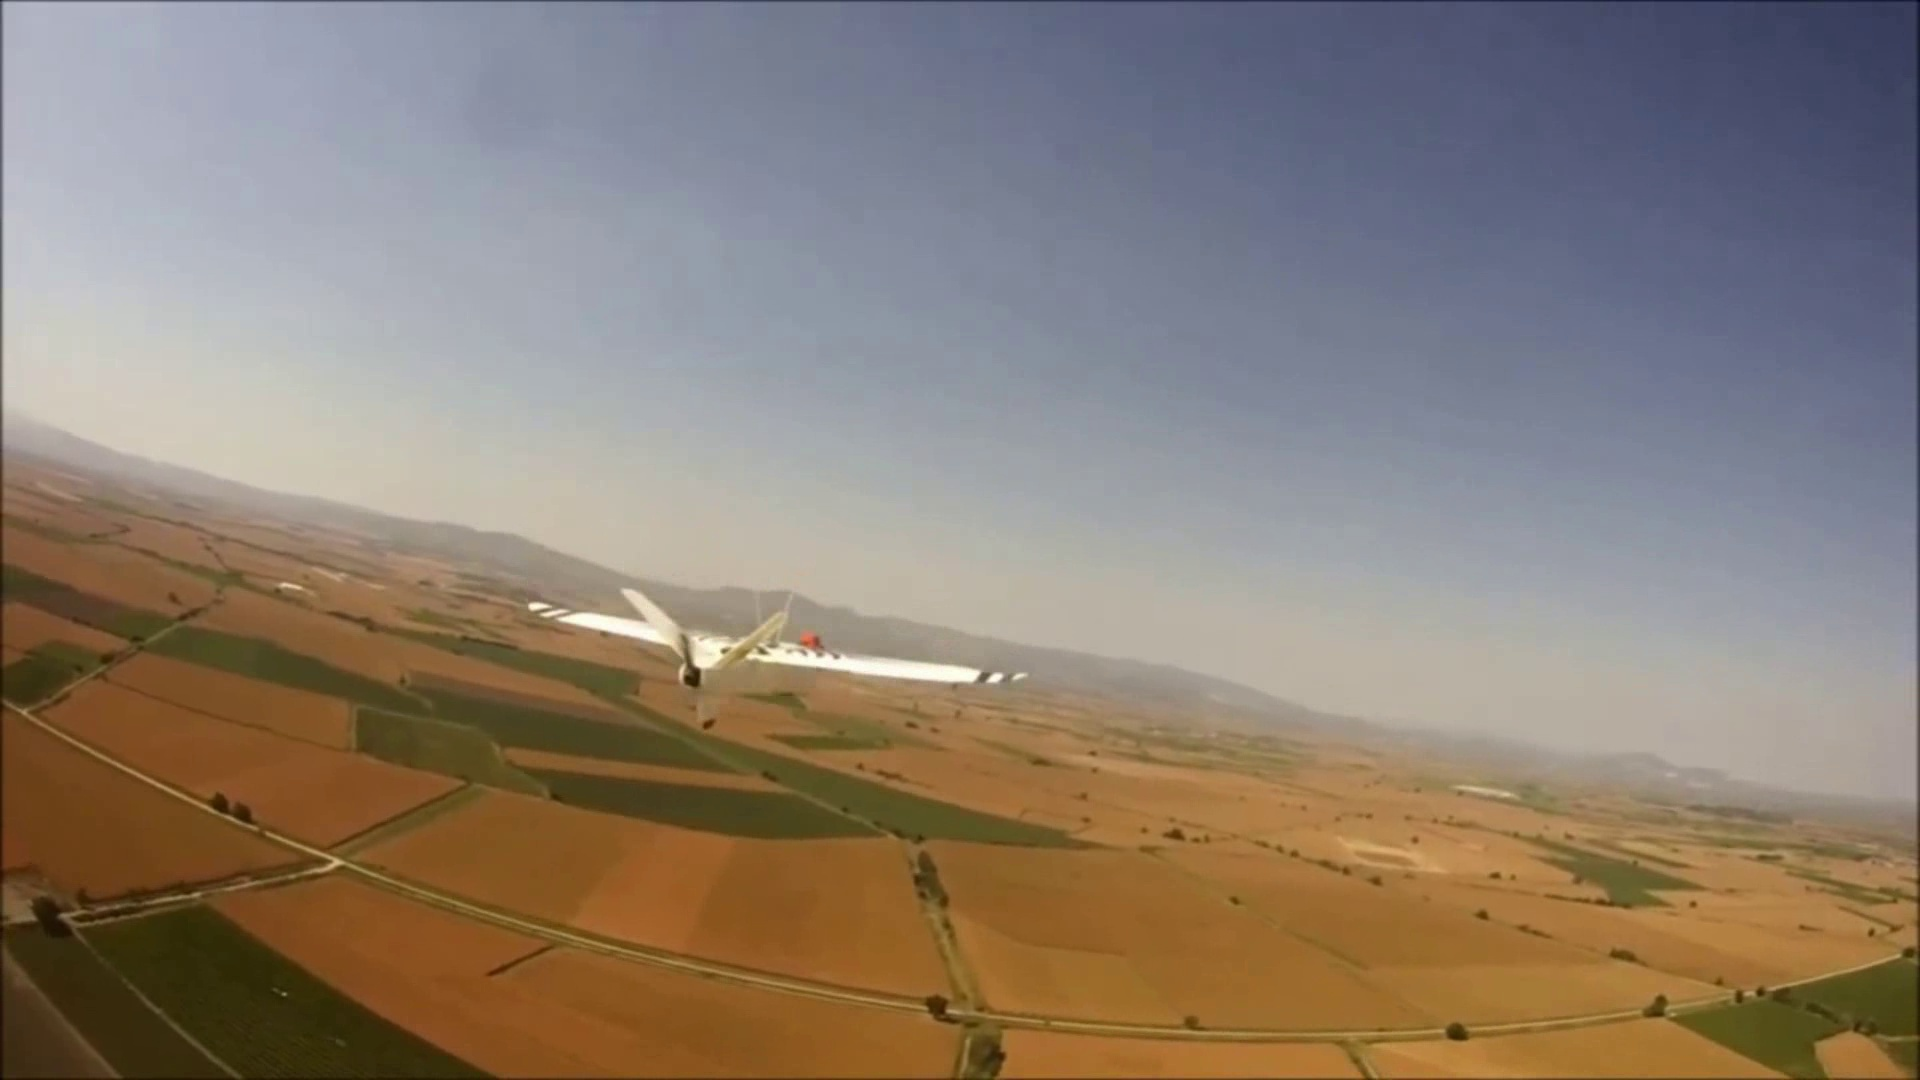airplane: (7, 407, 1891, 1072)
